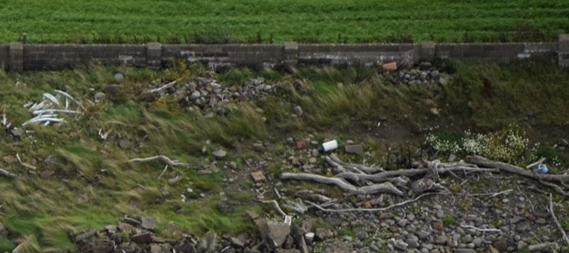white_in_green: (304, 121, 353, 168), (237, 152, 284, 195), (520, 146, 567, 189), (368, 44, 411, 81)
wood_together: (19, 85, 80, 130)
